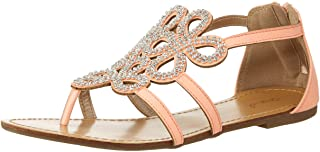shoes: (1, 2, 320, 150)
